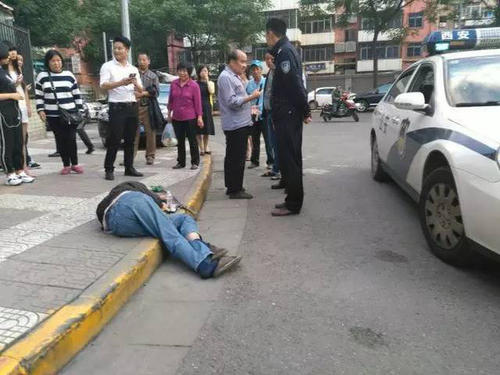10+: (5, 15, 313, 285)
down: (90, 178, 246, 283)
